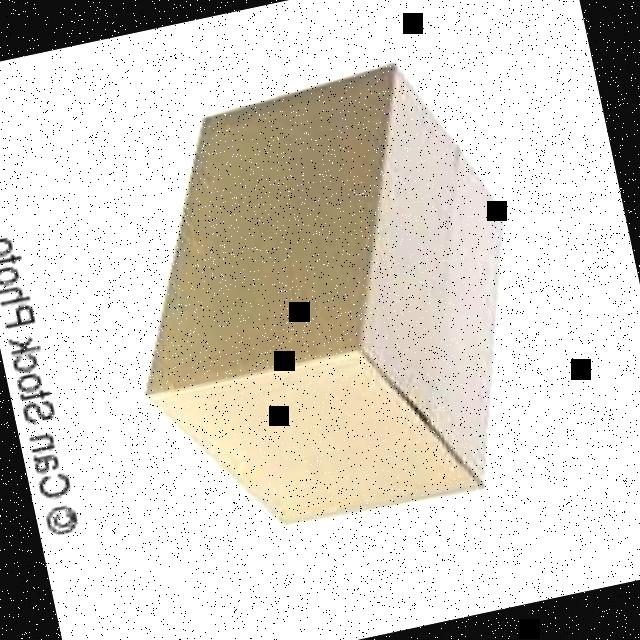cardboard_box: (88, 51, 556, 568)
